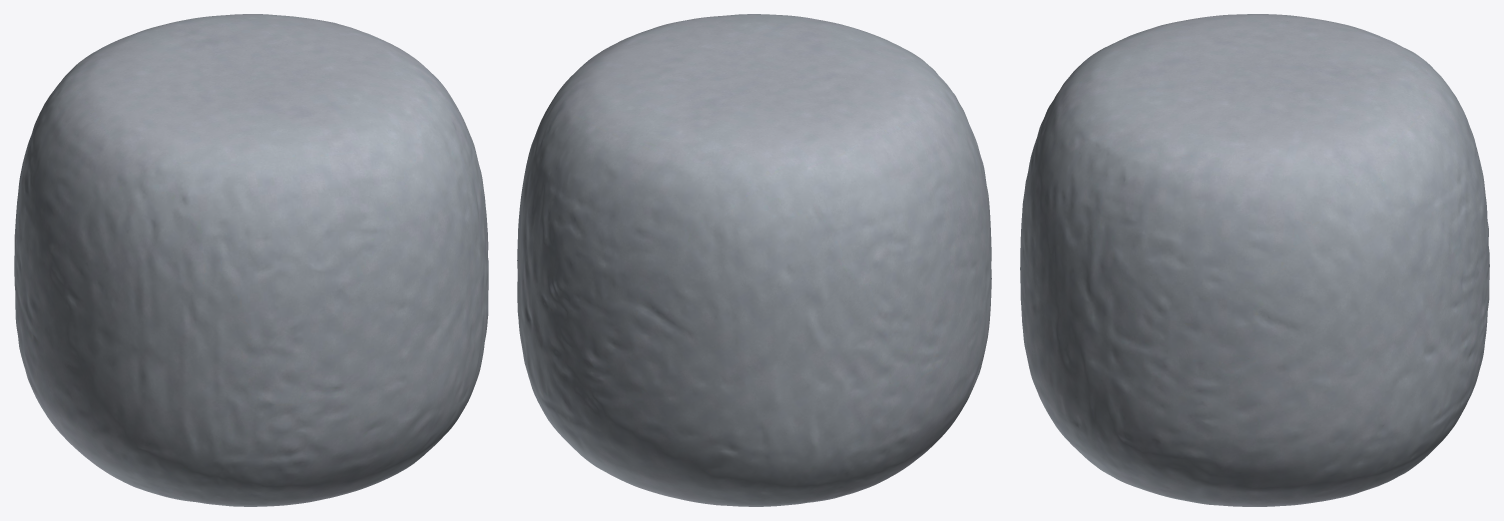
The model's file is fa251f677a91_create_low_wall_sno.fbx.
3 renders of one model, left to right at view 1: azimuth 30°, elevation 25°; view 2: azimuth 150°, elevation 25°; view 3: azimuth 270°, elevation 25°, orthographic.
Parts seen in each view (by area): view 1: high_poly; view 2: high_poly; view 3: high_poly.
Boxes of the visible parts, bbox=[...] form: high_poly: bbox=[14, 14, 488, 506]; high_poly: bbox=[517, 14, 991, 506]; high_poly: bbox=[1020, 14, 1489, 506].
Size of the model in its own units: 99.91 by 89.14 by 100.
